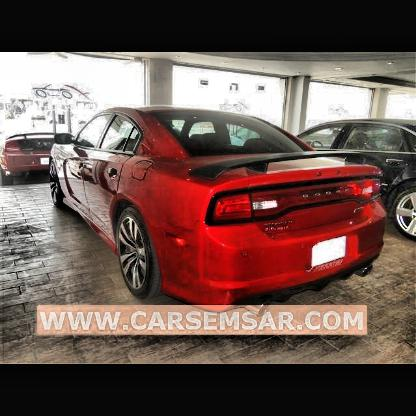Dodge Charger Sedan 2012: (49, 104, 386, 319)
